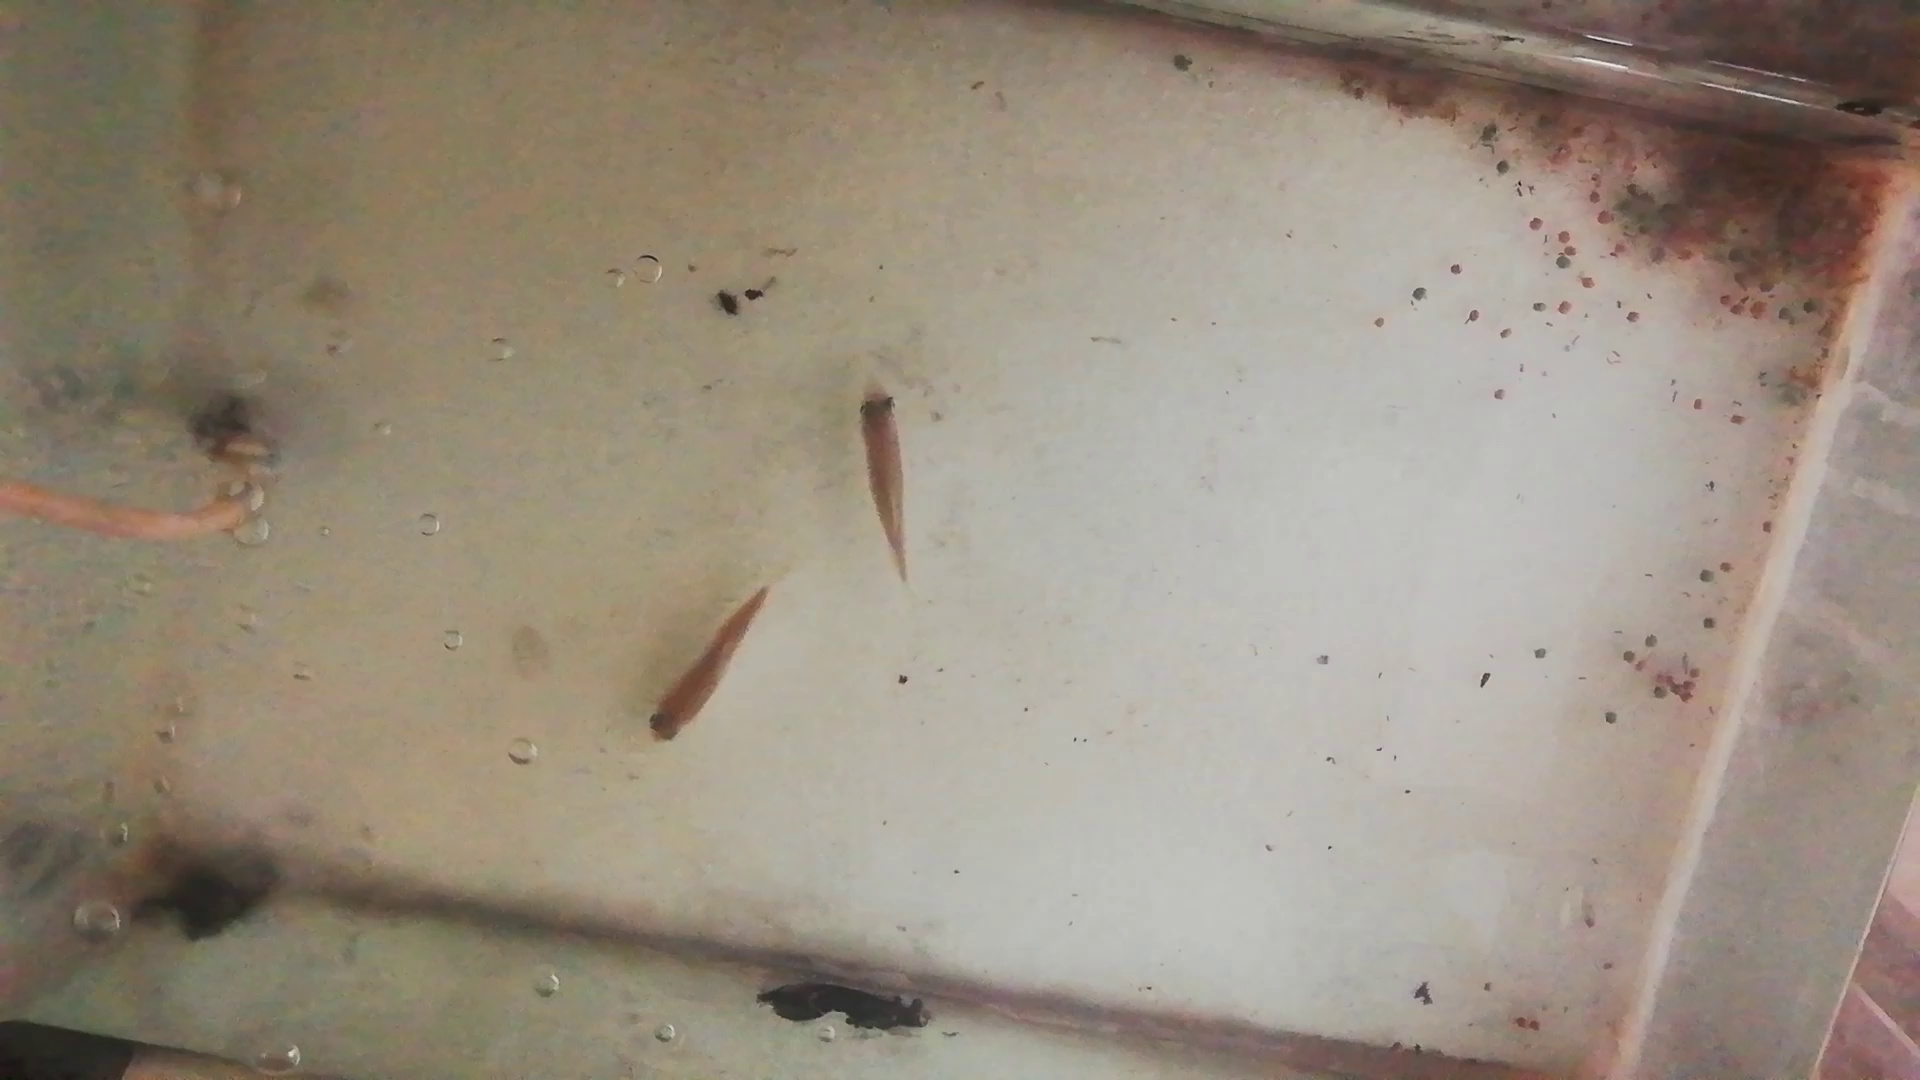fish: (642, 587, 773, 738), (852, 375, 919, 582)
